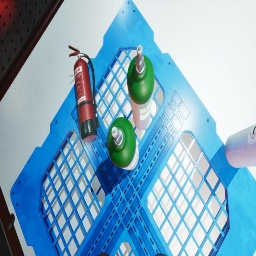0: (127, 44, 155, 130), (107, 117, 139, 170), (225, 123, 256, 168)
FireExtinguisher ]: (69, 45, 100, 142)
NitrogenTank ,: (98, 252, 110, 256), (155, 253, 166, 256)
